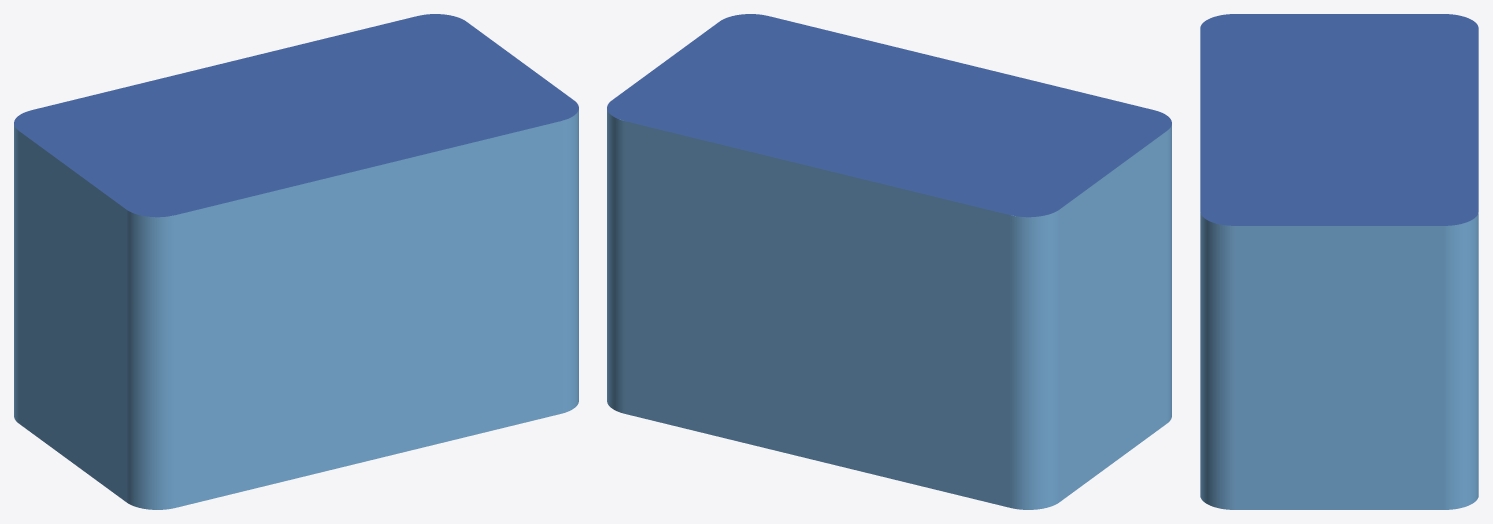
The model's file is mir200_mount_box.dae.
The picture shows the model from 3 angles, left to right: view 1: azimuth 30°, elevation 25°; view 2: azimuth 150°, elevation 25°; view 3: azimuth 270°, elevation 25°; orthographic projection. The views are drawn at different scales.
Visible parts, largest first — view 1: _e3ced08a522ca15a7e0bc9d; view 2: _e3ced08a522ca15a7e0bc9d; view 3: _e3ced08a522ca15a7e0bc9d.
Part boxes in pixels (bbox=[...]): _e3ced08a522ca15a7e0bc9d: bbox=[14, 14, 578, 509]; _e3ced08a522ca15a7e0bc9d: bbox=[607, 14, 1171, 509]; _e3ced08a522ca15a7e0bc9d: bbox=[1200, 14, 1478, 509].
Bounding box in the file's own units: 0.72 × 0.4 × 0.45.
